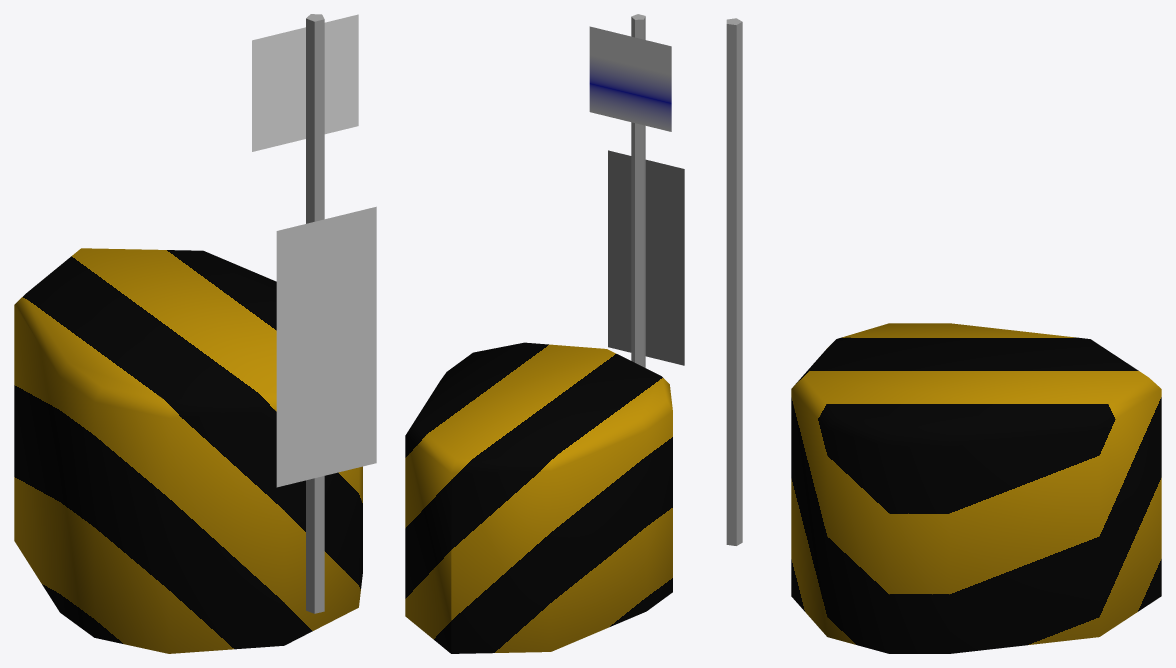
The model's file is ROMEN_ST_BLOCK.glb.
3 views of the same model, side by side, from view 1: azimuth 30°, elevation 25°; view 2: azimuth 150°, elevation 25°; view 3: azimuth 270°, elevation 25° (orthographic). The views are drawn at different scales.
Parts seen in each view (by area): view 1: FRAME_ROOT; view 2: FRAME_ROOT; view 3: FRAME_ROOT.
Boxes of the visible parts, x1,y1,x2,y2 form: FRAME_ROOT: [14, 14, 376, 653]; FRAME_ROOT: [405, 14, 684, 653]; FRAME_ROOT: [726, 18, 1161, 653].
Bounding box in the file's own units: 3.87 × 8.97 × 6.33.
2 materials, 1 textured.
